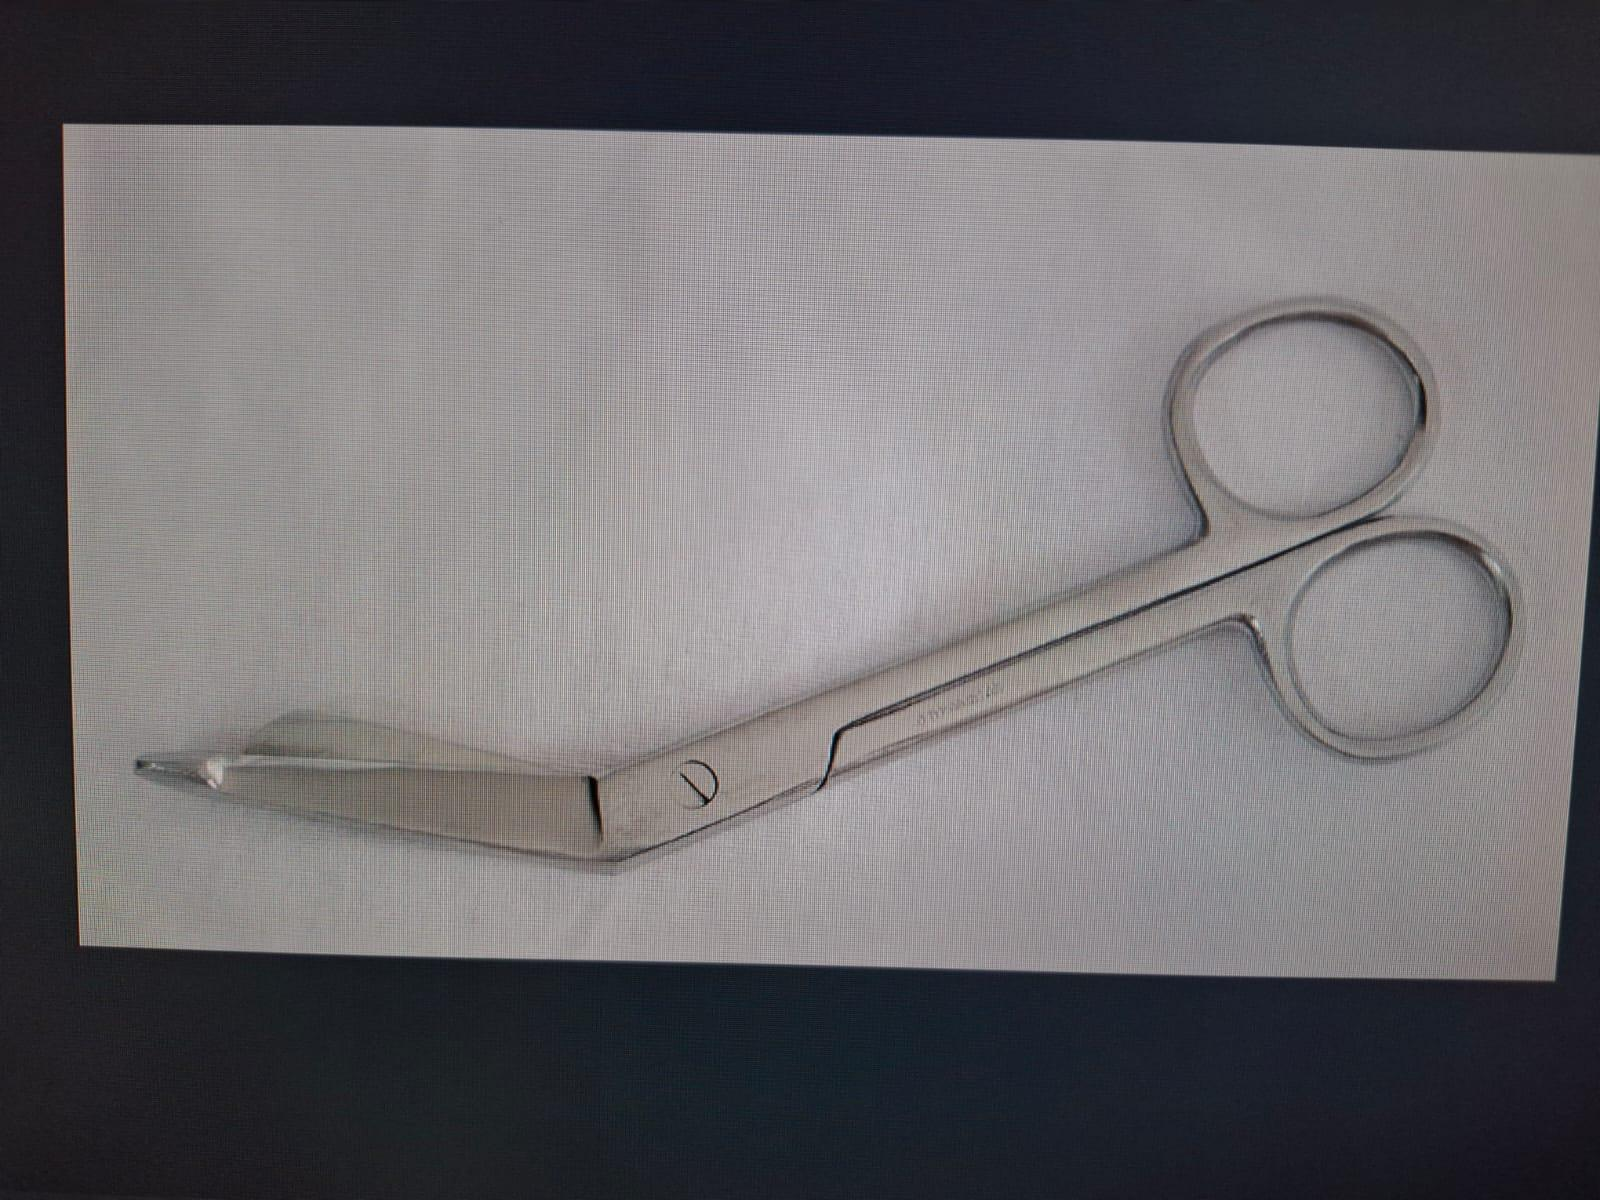Bandage Sciccors: (113, 280, 1529, 882)
